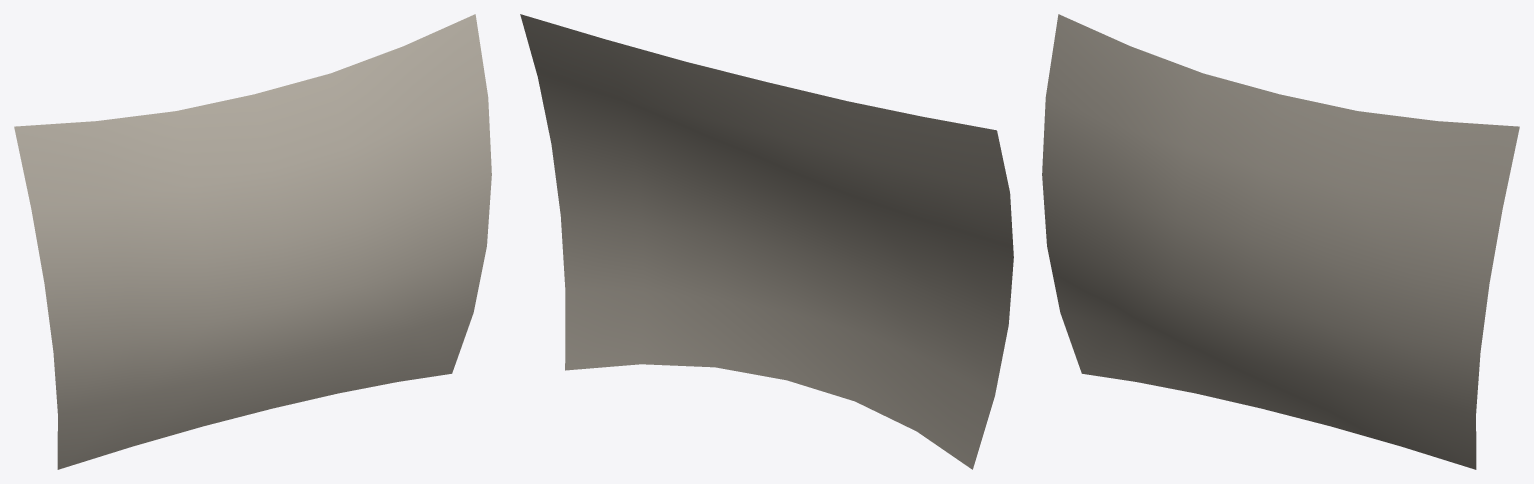
Rendered from Sail_Custom_03.fbx.
3 views of the same model, side by side, from view 1: azimuth 30°, elevation 25°; view 2: azimuth 150°, elevation 25°; view 3: azimuth 330°, elevation 25° (orthographic). The views are drawn at different scales.
Parts seen in each view (by area): view 1: Sail_Custom_03; view 2: Sail_Custom_03; view 3: Sail_Custom_03.
Part boxes in pixels (x1,y1,x2,y2): Sail_Custom_03: [14, 14, 491, 469]; Sail_Custom_03: [520, 14, 1013, 469]; Sail_Custom_03: [1042, 14, 1519, 469].
Bounding box in the file's own units: 417 × 297 × 64.37.
